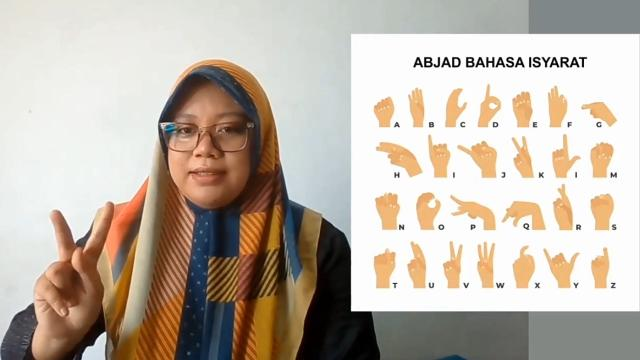K: (33, 202, 113, 340)
